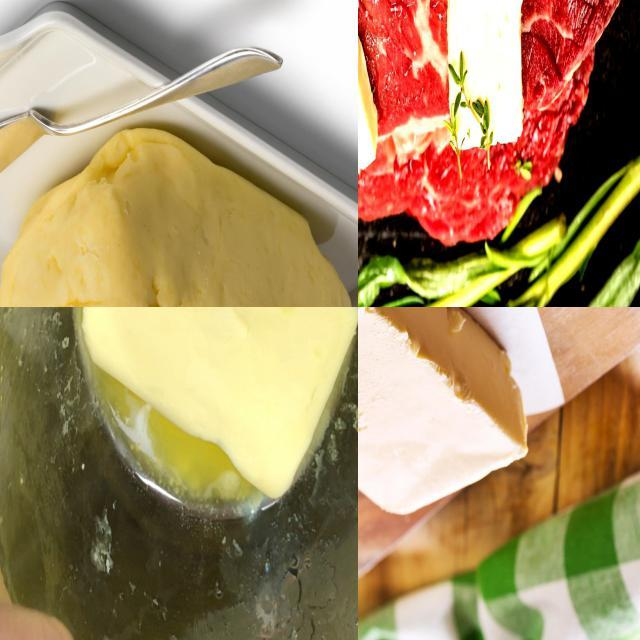Butter: (0, 124, 357, 306), (80, 307, 357, 495), (358, 307, 531, 522), (444, 0, 525, 162)
